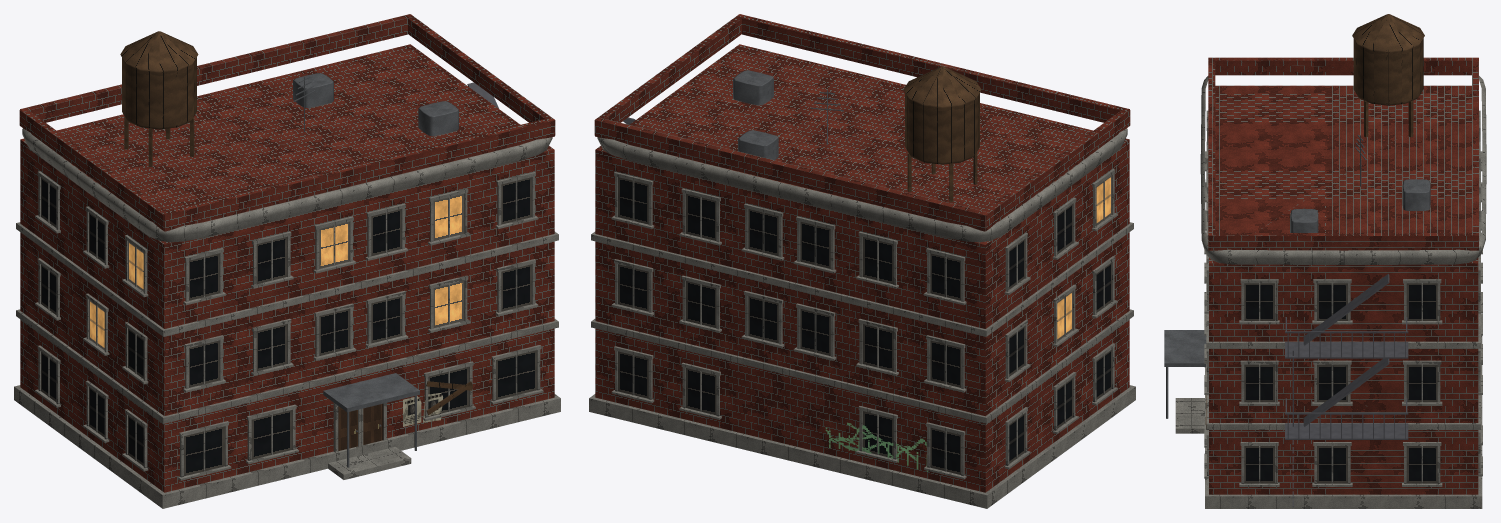
File: town_apartments.glb
3 renders of one model, left to right at view 1: azimuth 30°, elevation 25°; view 2: azimuth 150°, elevation 25°; view 3: azimuth 270°, elevation 25°, orthographic. The views are drawn at different scales.
Visible parts, largest first — view 1: shell-col, detail; view 2: shell-col, detail; view 3: shell-col, detail.
Boxes of the visible parts, <box> form: shell-col: <box>14,44,560,508</box>; detail: <box>16,14,558,480</box>; shell-col: <box>589,44,1135,508</box>; detail: <box>591,14,1133,479</box>; shell-col: <box>1175,85,1482,508</box>; detail: <box>1164,14,1486,507</box>.
Size of what is drawn, in the model's own units: 16.6 by 14.05 by 11.5.
11 materials, 11 textured.
